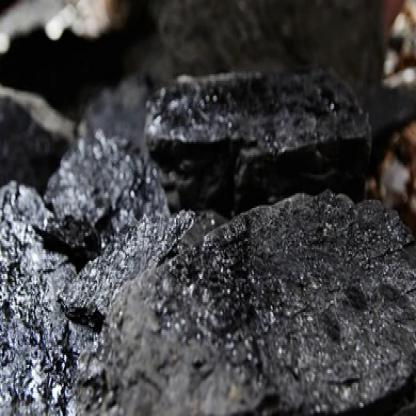Sedimentary_coal: (107, 198, 414, 414), (135, 53, 408, 183)
